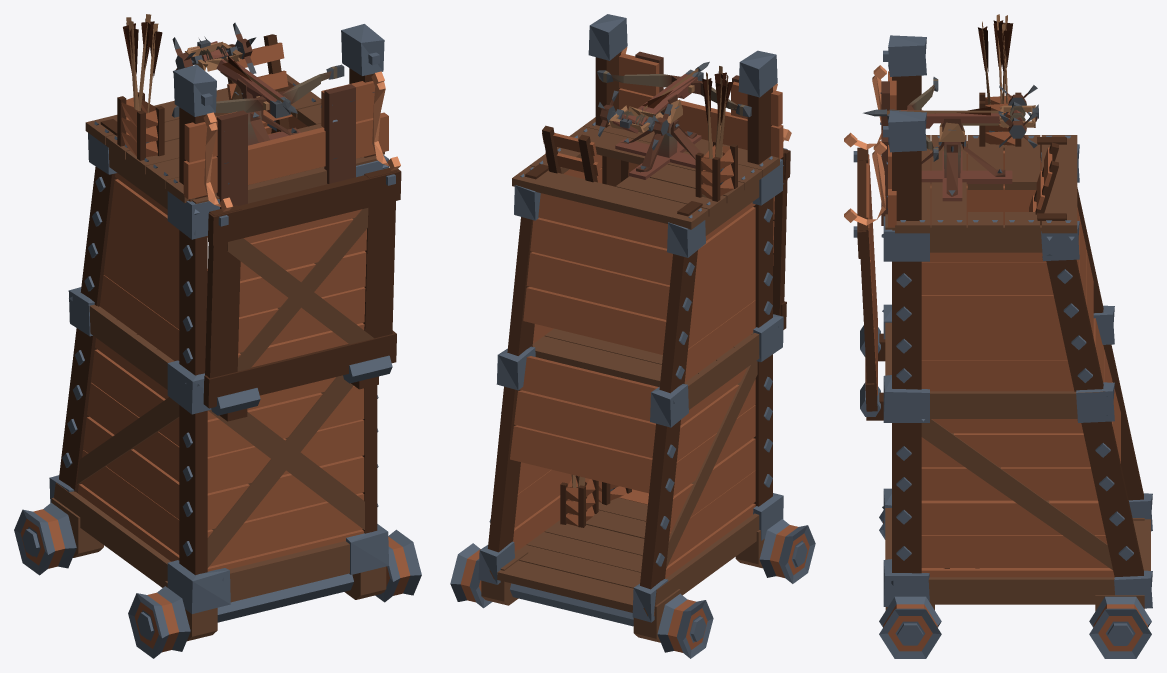
File: siege-tower-b.zfix-v9.lod0.glb
3 views of the same model, side by side, from view 1: azimuth 30°, elevation 25°; view 2: azimuth 150°, elevation 25°; view 3: azimuth 270°, elevation 25° (orthographic). The views are drawn at different scales.
Parts seen in each view (by area): view 1: Cube.128_WoodBeam_0; view 2: Cube.128_WoodBeam_0; view 3: Cube.128_WoodBeam_0.
Part boxes in pixels (x1,y1,x2,y2): Cube.128_WoodBeam_0: (14,14,421,658); Cube.128_WoodBeam_0: (450,14,815,658); Cube.128_WoodBeam_0: (844,14,1152,658).
Size of the model in its own units: 6.12 by 13 by 6.7.
